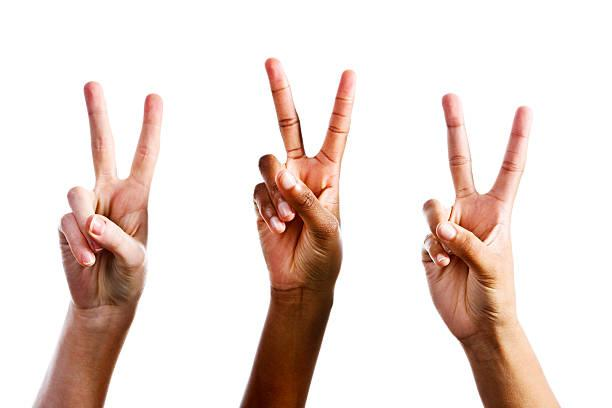peace_sign: (413, 88, 556, 350), (46, 75, 171, 325), (247, 47, 357, 311)
